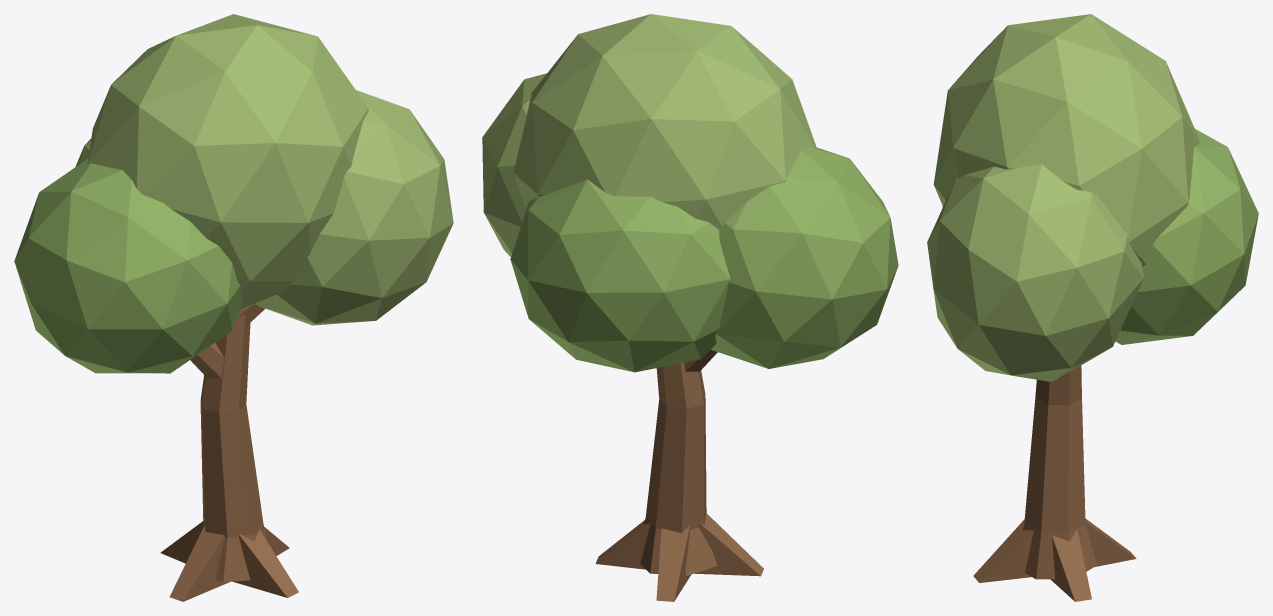
Rendered from LowPolyTree.fbx.
3 views of the same model, side by side, from view 1: azimuth 30°, elevation 25°; view 2: azimuth 150°, elevation 25°; view 3: azimuth 270°, elevation 25° (orthographic).
Parts seen in each view (by area): view 1: LowPolyTree; view 2: LowPolyTree; view 3: LowPolyTree.
Boxes of the visible parts, x1,y1,x2,y2 form: LowPolyTree: (14, 14, 453, 601); LowPolyTree: (482, 14, 898, 601); LowPolyTree: (927, 14, 1258, 601).
Bounding box in the file's own units: 310 × 401 × 222.
